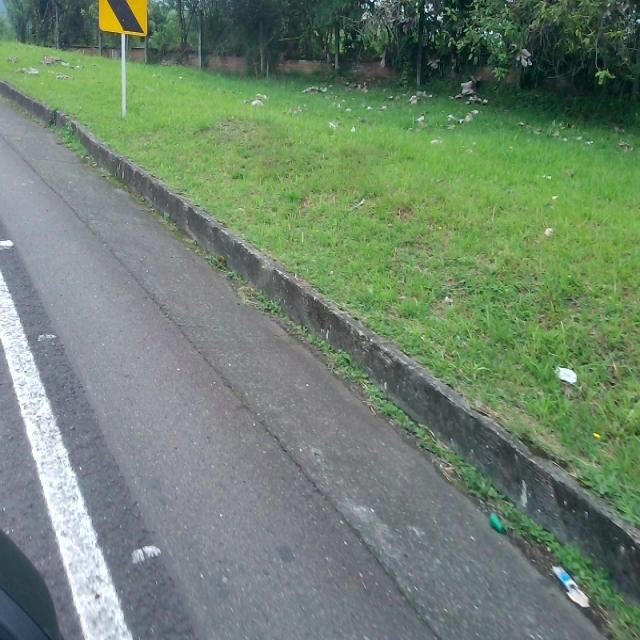DITCH: (1, 80, 638, 638), (1, 89, 638, 638)
